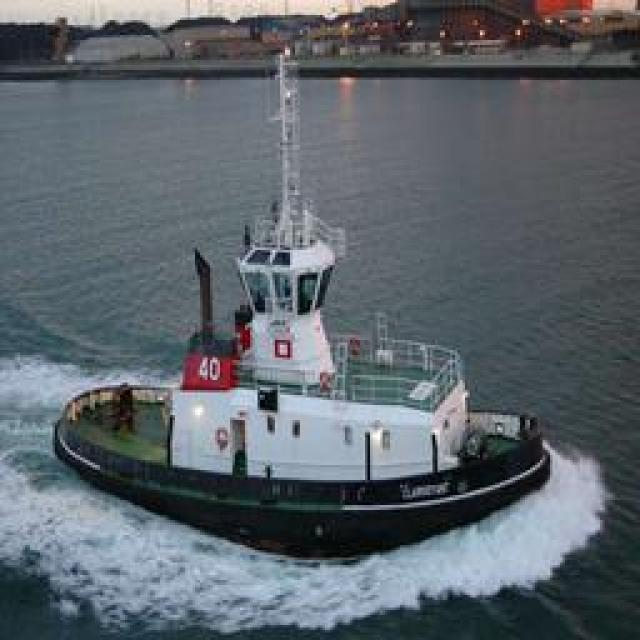CIV_Ship: (55, 105, 565, 563)
